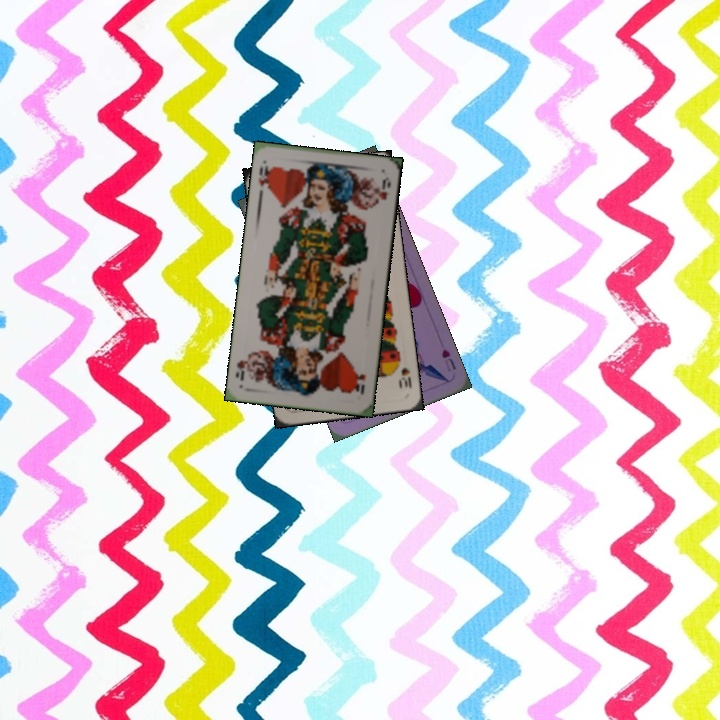HO: (255, 161, 275, 198), (351, 369, 368, 397)
HU: (437, 344, 459, 374)
S10: (392, 355, 414, 391)
